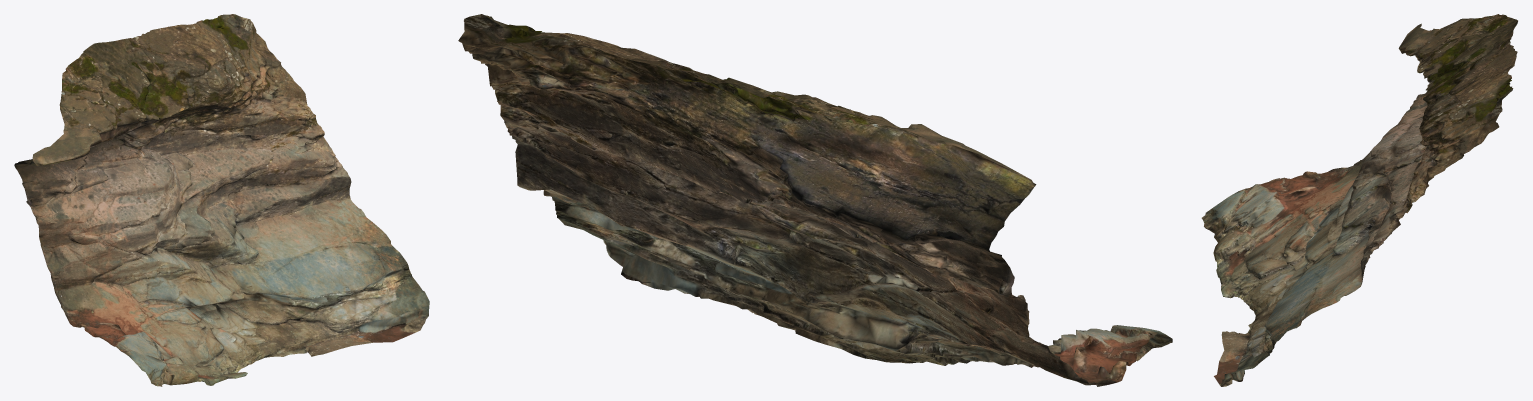
Rendered from rock_face_01_low.glb.
3 renders of one model, left to right at view 1: azimuth 30°, elevation 25°; view 2: azimuth 150°, elevation 25°; view 3: azimuth 270°, elevation 25°, orthographic. The views are drawn at different scales.
Parts seen in each view (by area): view 1: rock_face_01; view 2: rock_face_01; view 3: rock_face_01.
Boxes of the visible parts, x1,y1,x2,y2 form: rock_face_01: [14, 14, 429, 386]; rock_face_01: [458, 14, 1172, 386]; rock_face_01: [1201, 14, 1517, 386].
Bounding box in the file's own units: 4.95 × 3.56 × 3.83.
1 material, 1 textured.
